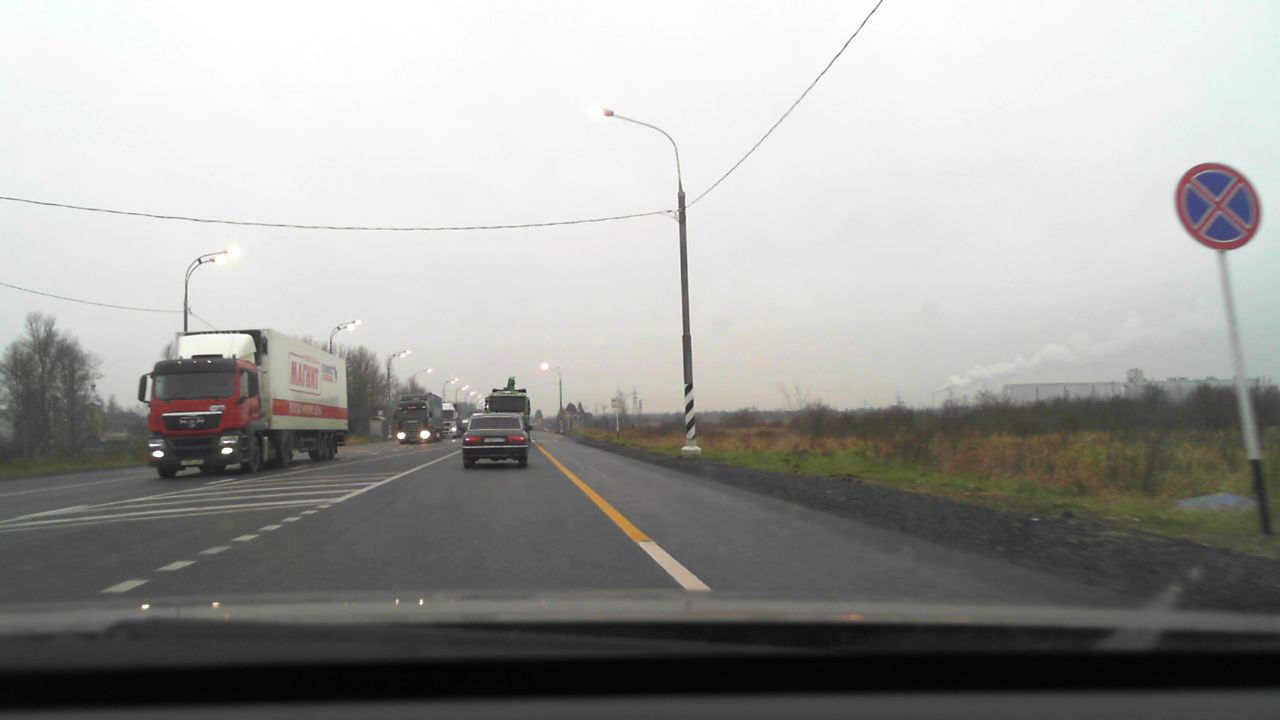No Parking: (1173, 161, 1261, 250)
